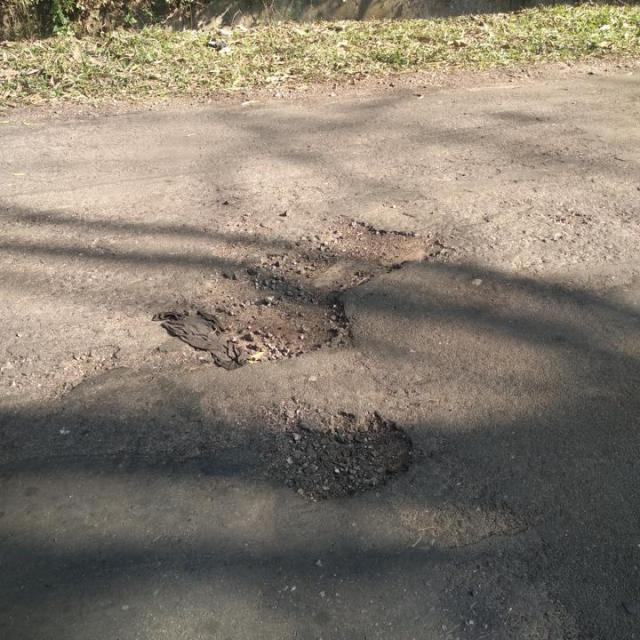buraco: (165, 213, 444, 380), (177, 210, 447, 364), (264, 403, 418, 504), (262, 405, 420, 503)
